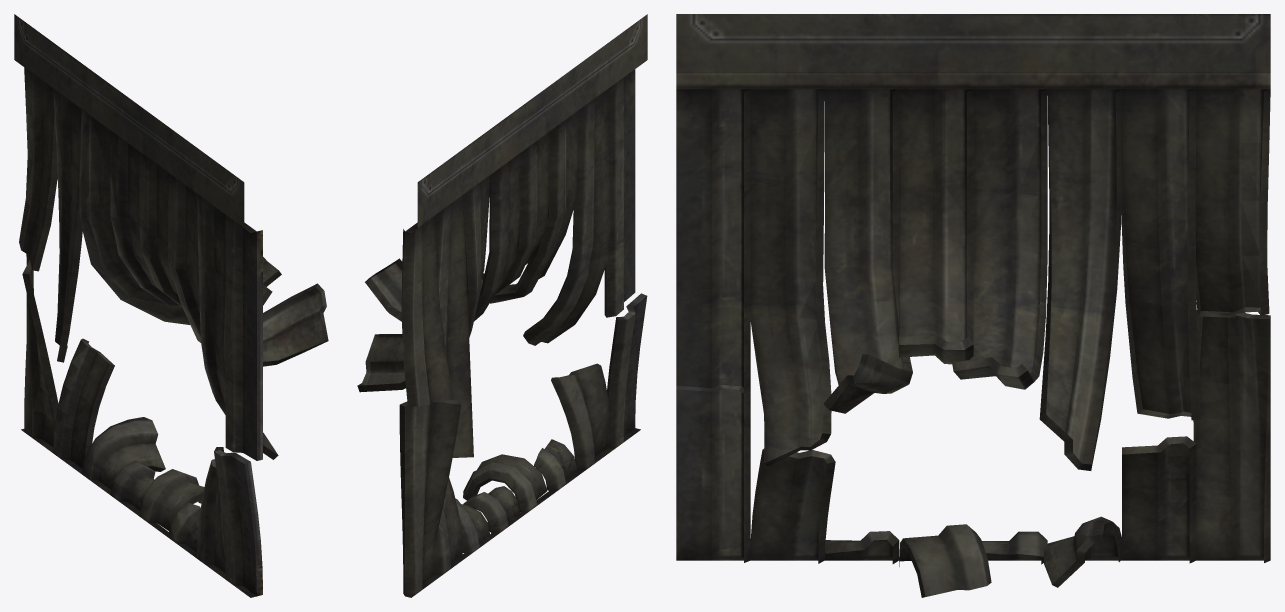
Rendered from pplant_bulkhead_short_damage03.dae.
3 views of the same model, side by side, from view 1: azimuth 30°, elevation 25°; view 2: azimuth 150°, elevation 25°; view 3: azimuth 270°, elevation 25° (orthographic). The views are drawn at different scales.
Parts seen in each view (by area): view 1: bulkhead_tunnel_damaged03; view 2: bulkhead_tunnel_damaged03; view 3: bulkhead_tunnel_damaged03.
Part boxes in pixels (box(x1,y1,x2,y2)): bulkhead_tunnel_damaged03: box(14, 14, 328, 597); bulkhead_tunnel_damaged03: box(357, 14, 647, 597); bulkhead_tunnel_damaged03: box(676, 14, 1270, 597).
Bounding box in the file's own units: 1.72 × 4.04 × 4.
